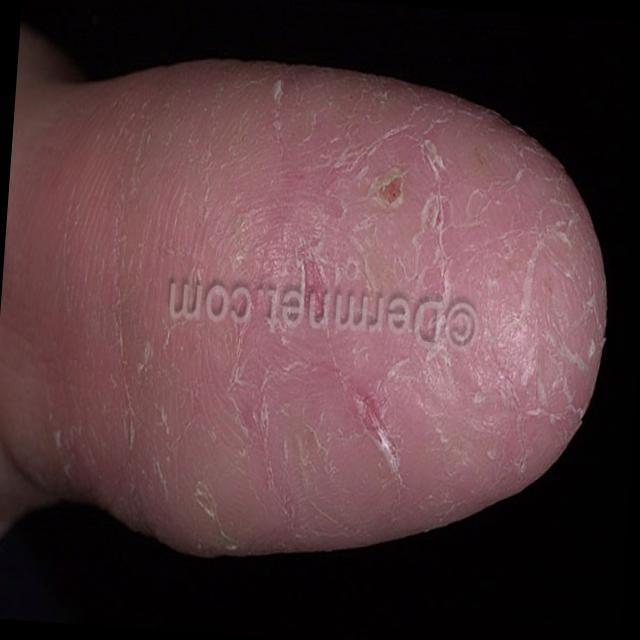Eczema: (93, 76, 606, 516)
